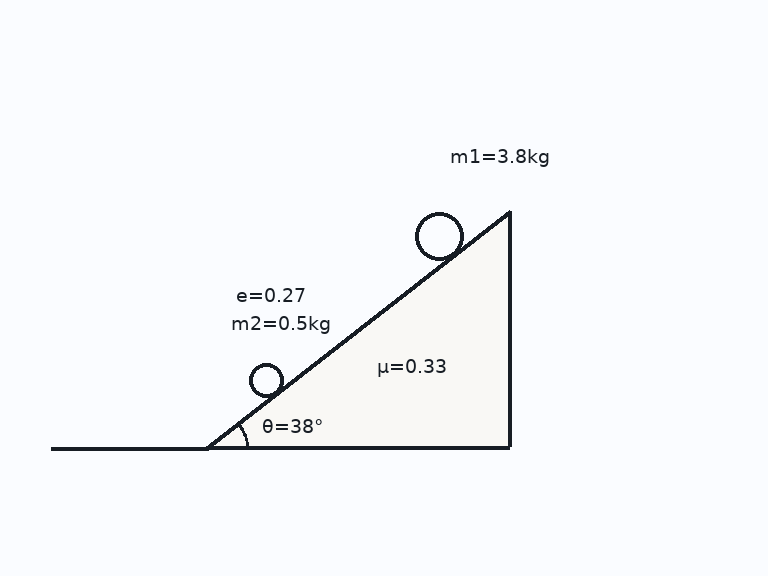ball: (413, 210, 465, 262), (247, 361, 285, 399)
ramp: (205, 210, 512, 450)
